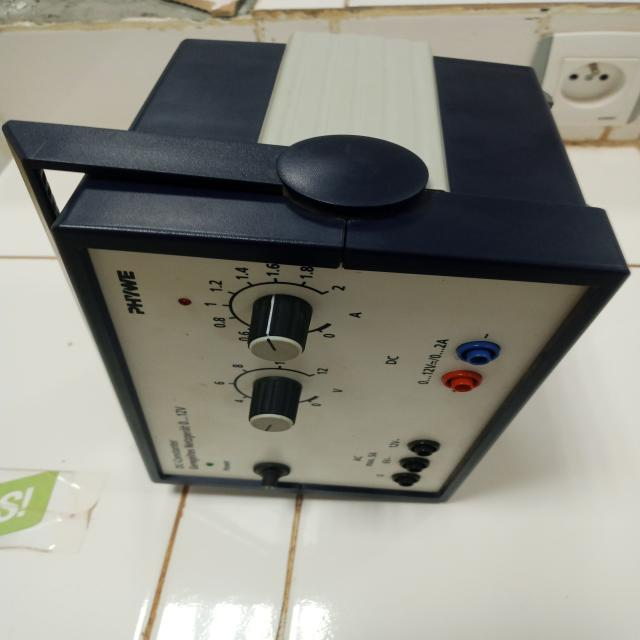DC Constant Power Supply 0-600V: (14, 28, 633, 515)
